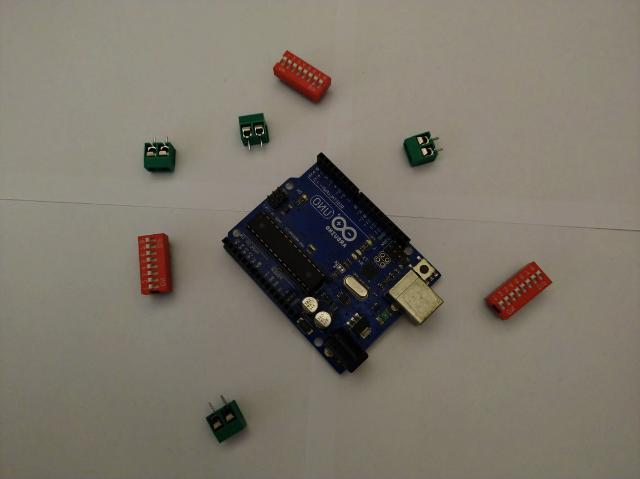arduino: (222, 151, 443, 375)
dip_switch: (484, 260, 552, 322), (274, 50, 332, 104), (138, 234, 172, 295)
terminal_block: (206, 395, 247, 443), (403, 131, 443, 167), (144, 135, 176, 172), (238, 113, 268, 151)
